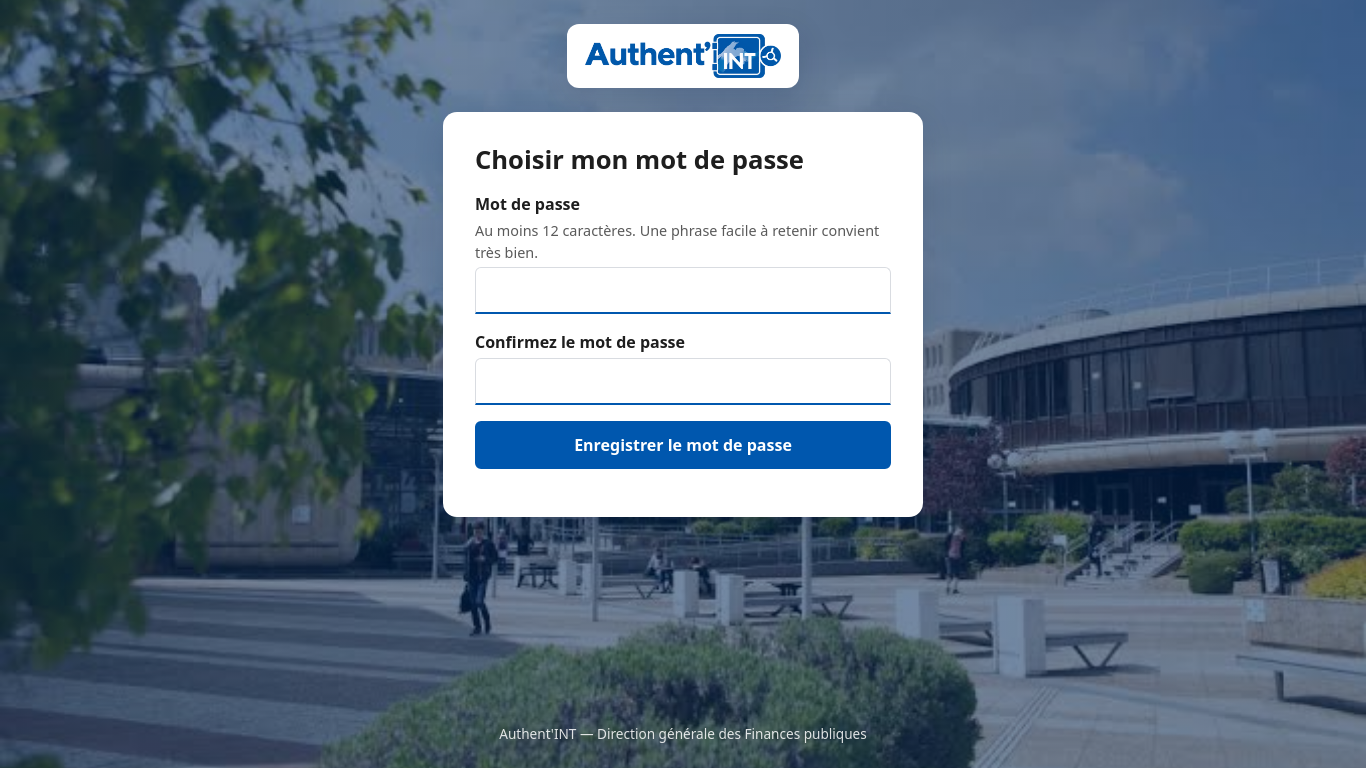
Test case: choosing a password (activation) › an expired or used link → our sentence and a way to ask a new one
Type "une phrase de passe assez longue" into the password field labelled "Mot de passe".
click(683, 291); type("une phrase de passe assez longue")  # box 475,267 -> 891,314
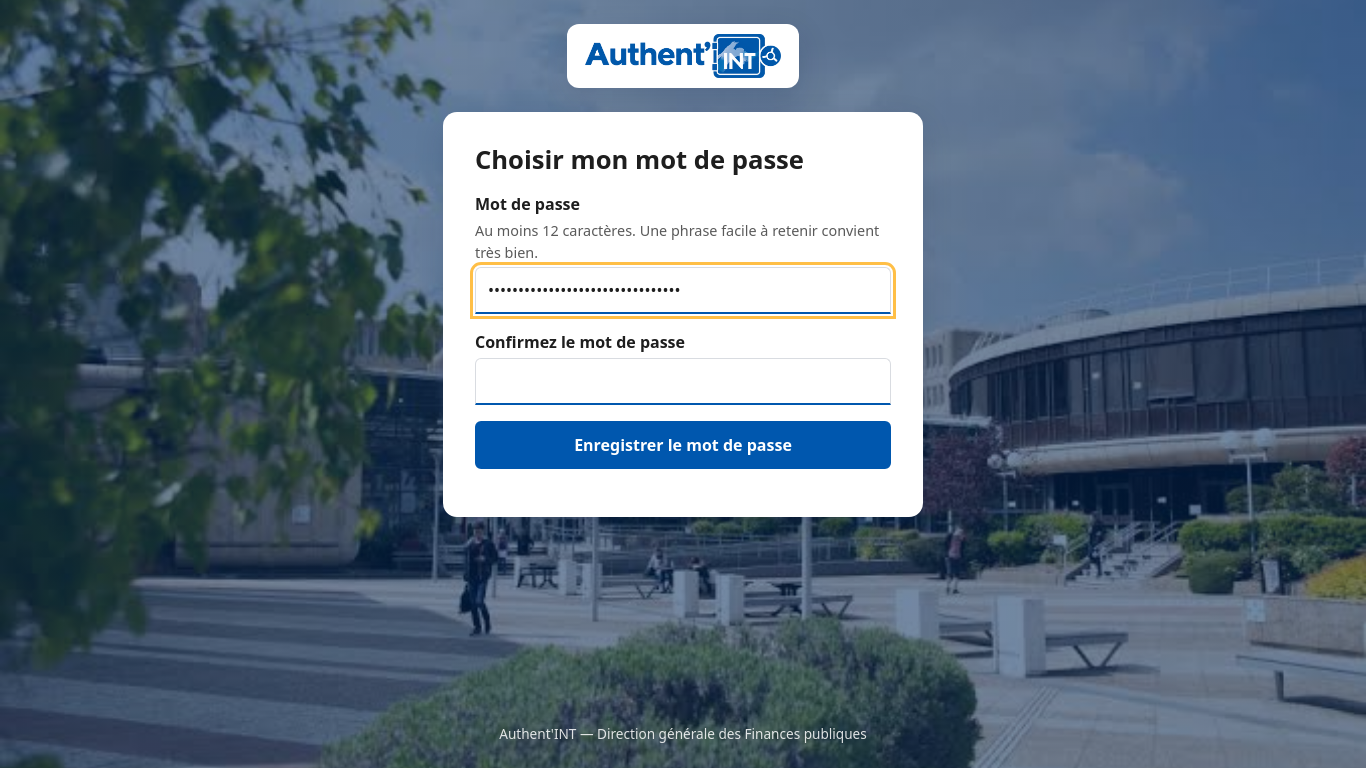
Type "une phrase de passe assez longue" into the password field labelled "Confirmez le mot de passe".
click(683, 382); type("une phrase de passe assez longue")  # box 475,358 -> 891,405
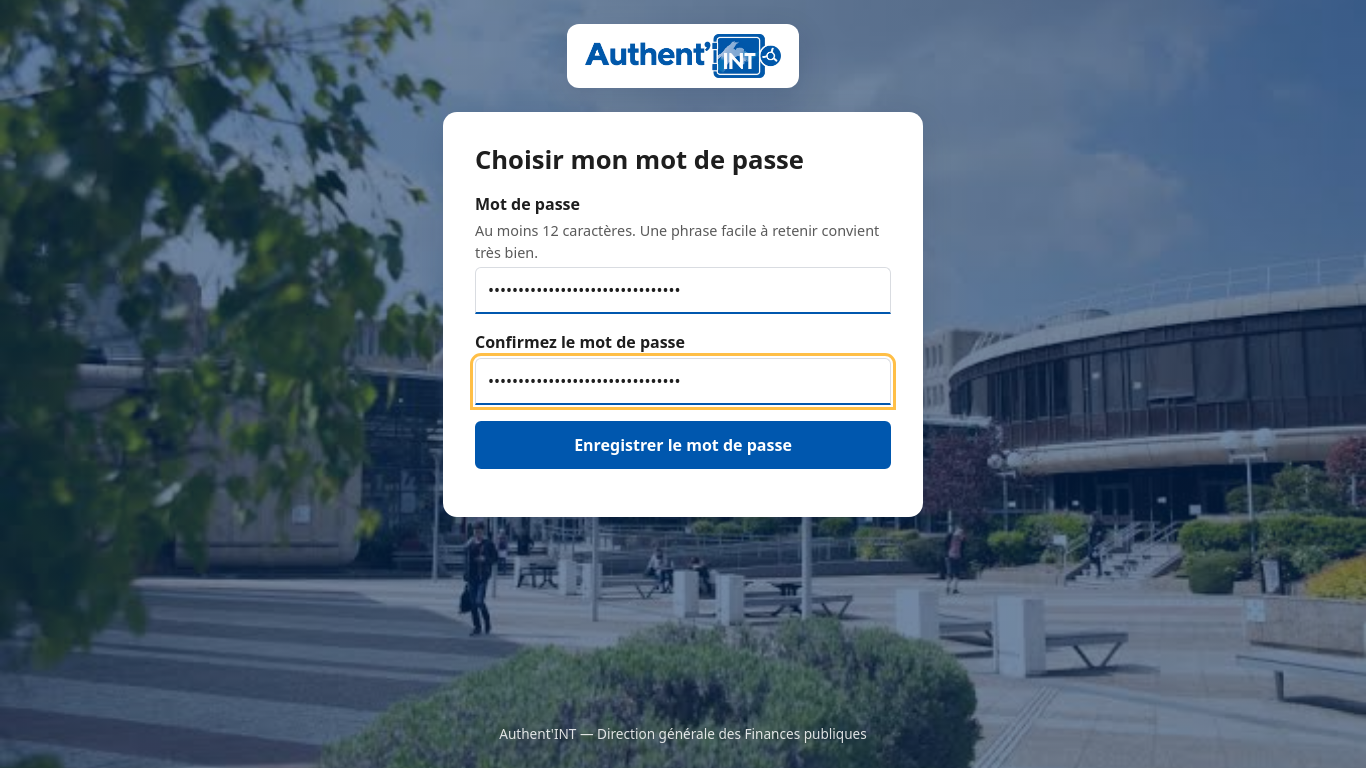
Click the button "Enregistrer le mot de passe".
click(683, 445)  # box 475,421 -> 891,469
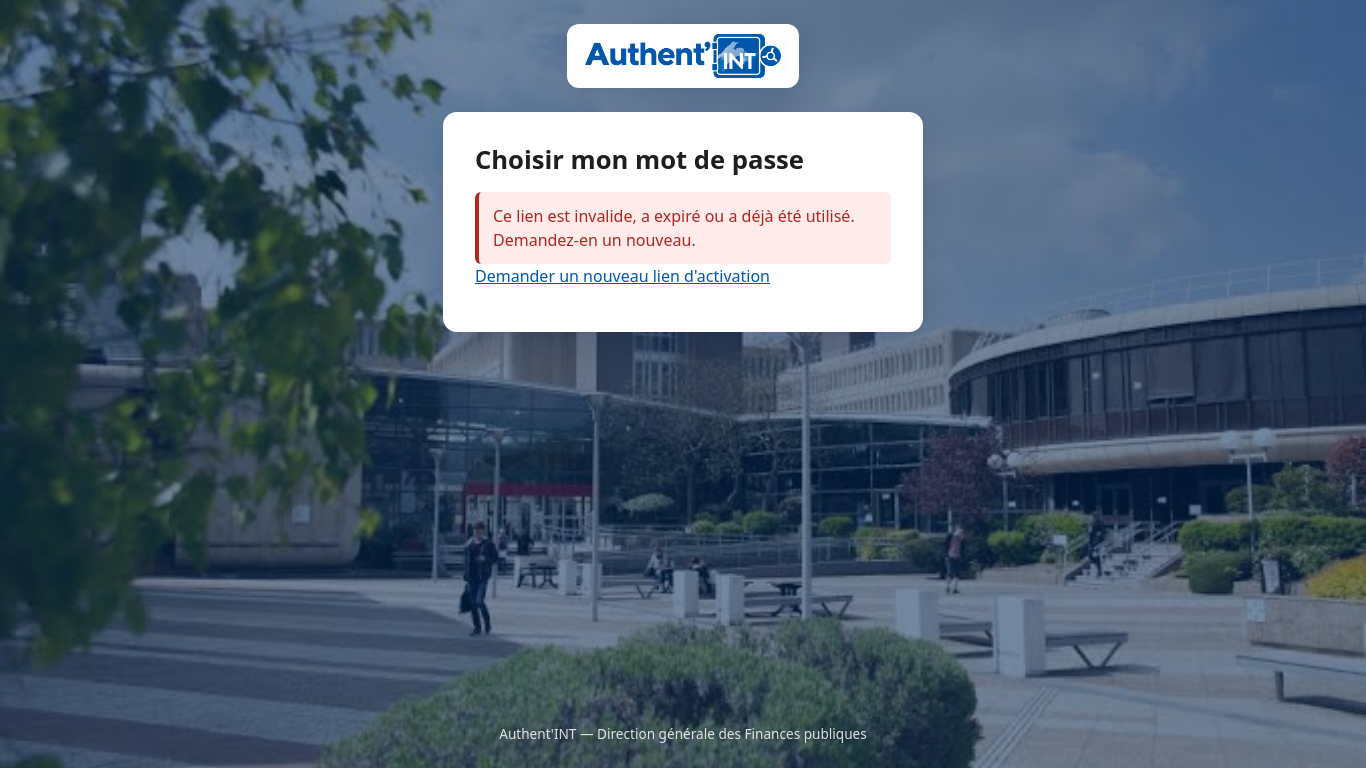
Now the message shows "Ce lien est invalide, a expiré ou a déjà été utilisé.", box 493,205 -> 855,251
Now the link "Demander un nouveau lien d'activation" is shown, box 475,265 -> 770,287
